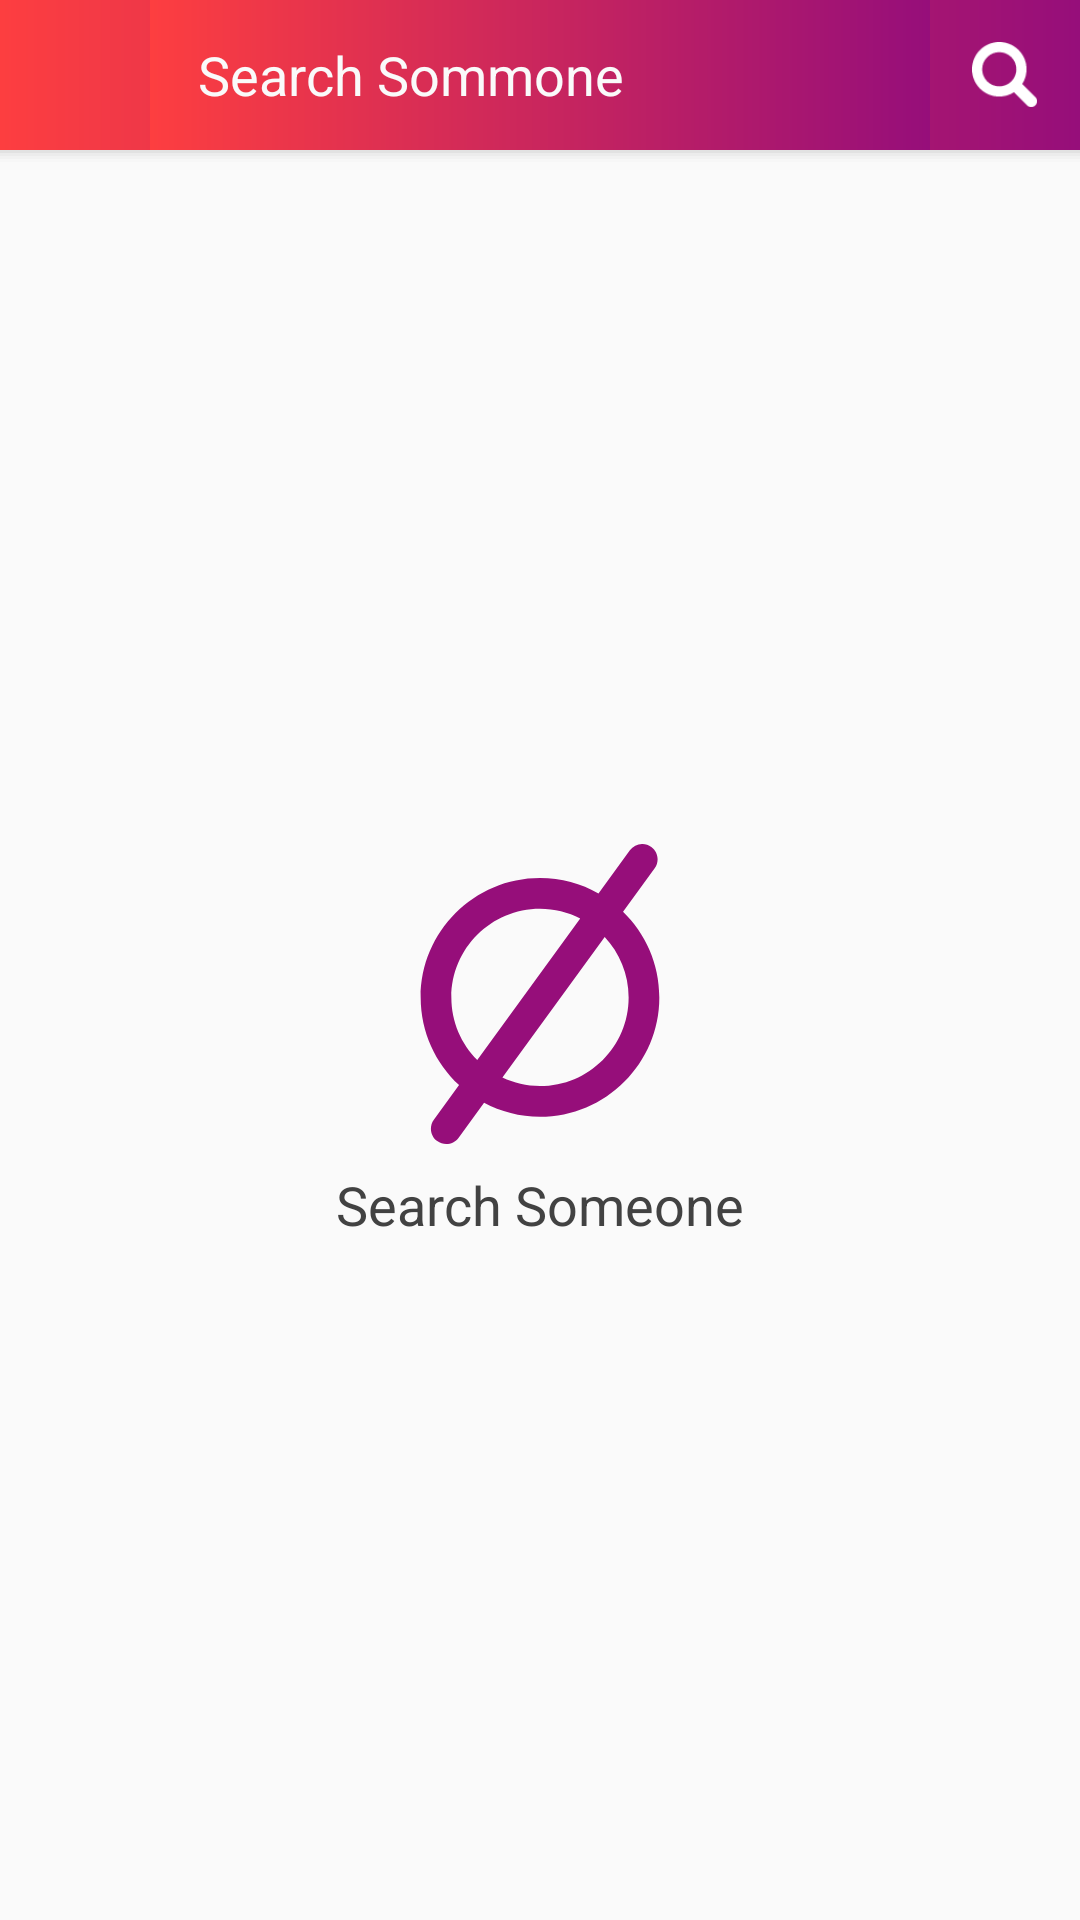

Screen size 1080 x 1920. Icon name, then its box in pixels as Rect(x1, y1, x2, y2):
empty: Rect(420, 844, 660, 1144)
